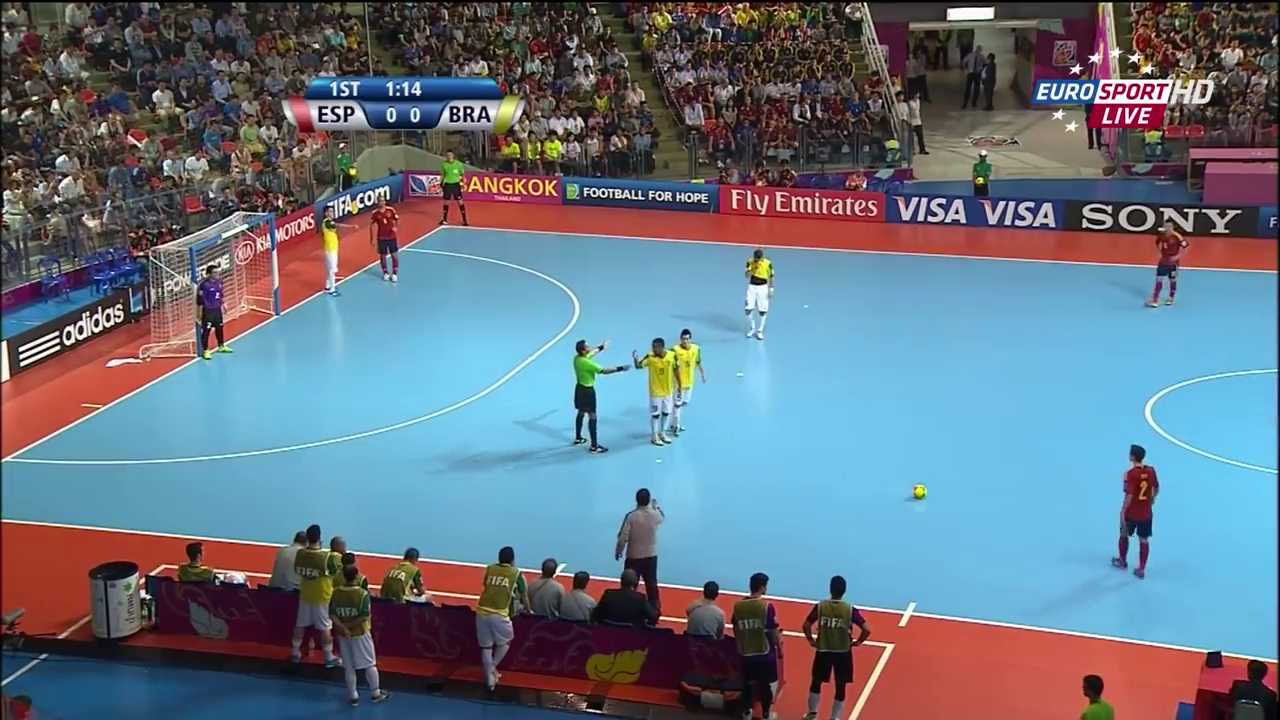ball: (909, 480, 926, 501)
person: (1110, 441, 1160, 583), (360, 190, 409, 286), (637, 338, 679, 448), (1144, 220, 1186, 308), (193, 267, 233, 358), (310, 204, 346, 300), (671, 327, 702, 434), (740, 246, 771, 346)
